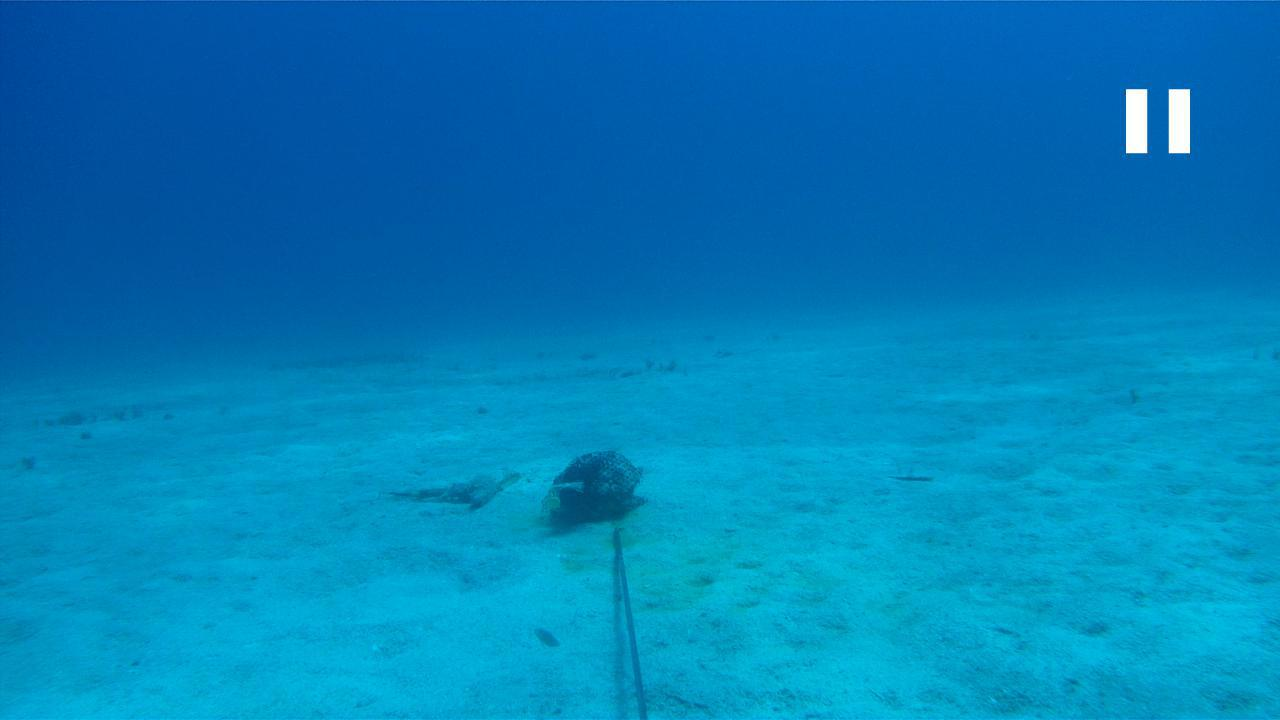bothus: (884, 465, 934, 484)
